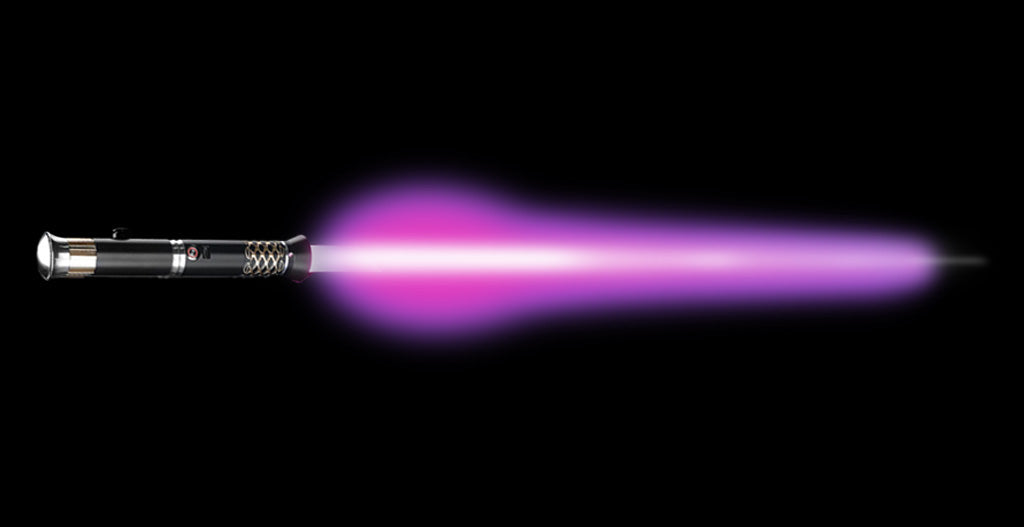lightsaber: (17, 180, 1013, 325)
